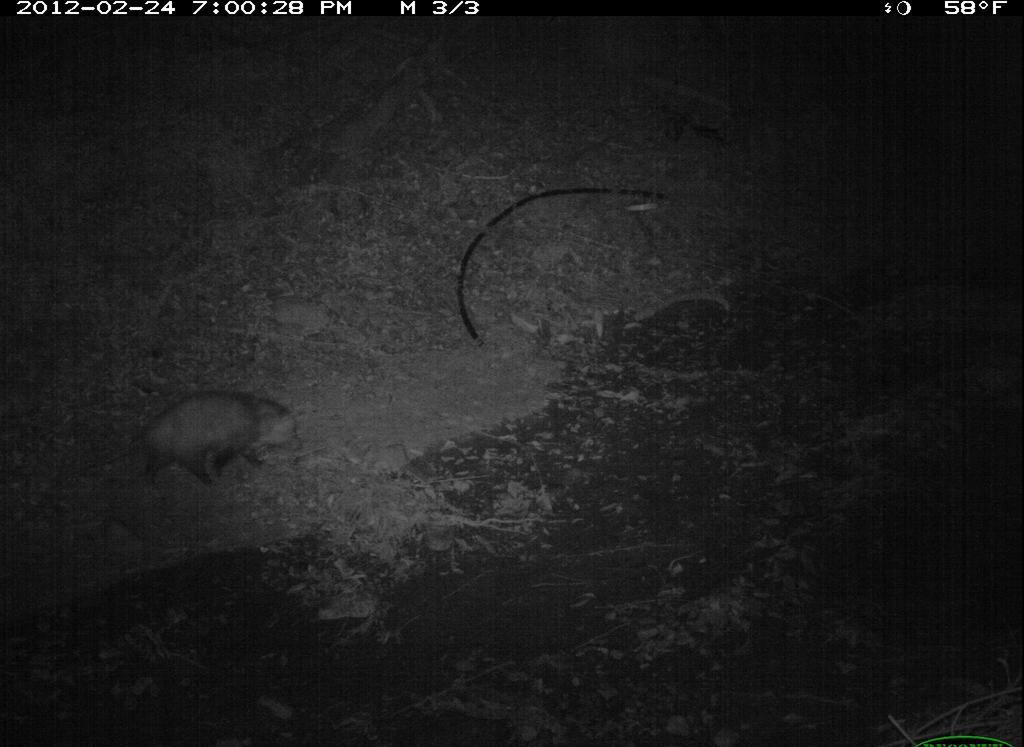opossum: (79, 385, 315, 506)
